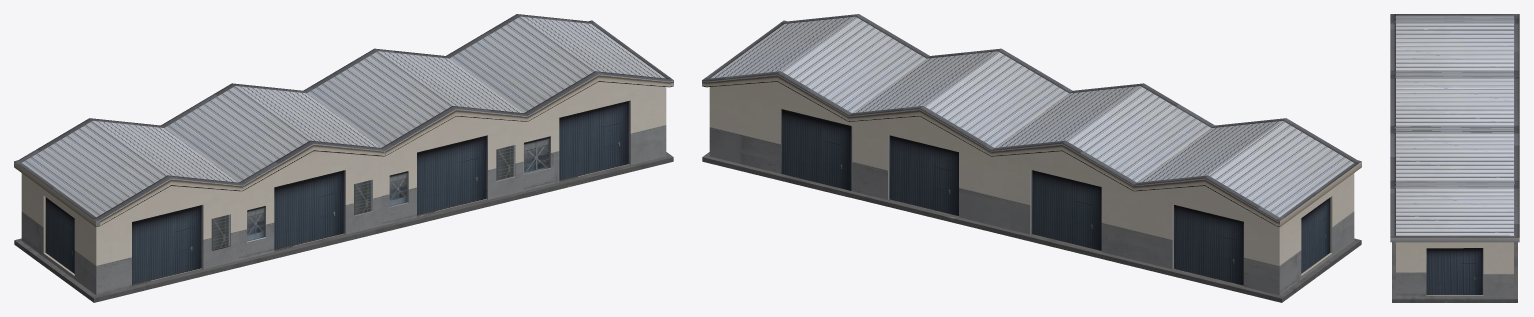
3 views of the same model, side by side, from view 1: azimuth 30°, elevation 25°; view 2: azimuth 150°, elevation 25°; view 3: azimuth 270°, elevation 25° (orthographic). The views are drawn at different scales.
Parts seen in each view (by area): view 1: wh-l6; view 2: wh-l6; view 3: wh-l6.
Boxes of the visible parts, left/top/right/bottom form: wh-l6: left=14, top=14, right=673, bottom=302; wh-l6: left=702, top=14, right=1361, bottom=302; wh-l6: left=1390, top=14, right=1519, bottom=302.
Bounding box in the file's own units: 32 × 5.66 × 7.81.
1 material, 1 textured.
